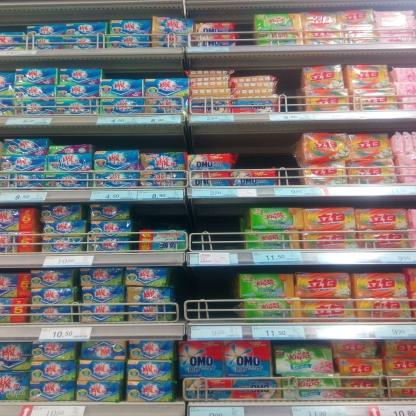Void: (130, 202, 241, 234), (95, 126, 226, 150), (234, 130, 292, 166), (173, 268, 234, 298), (106, 57, 182, 75), (310, 51, 413, 60), (228, 52, 273, 72), (281, 54, 302, 93), (56, 123, 88, 143), (236, 7, 250, 44), (190, 56, 223, 70)
